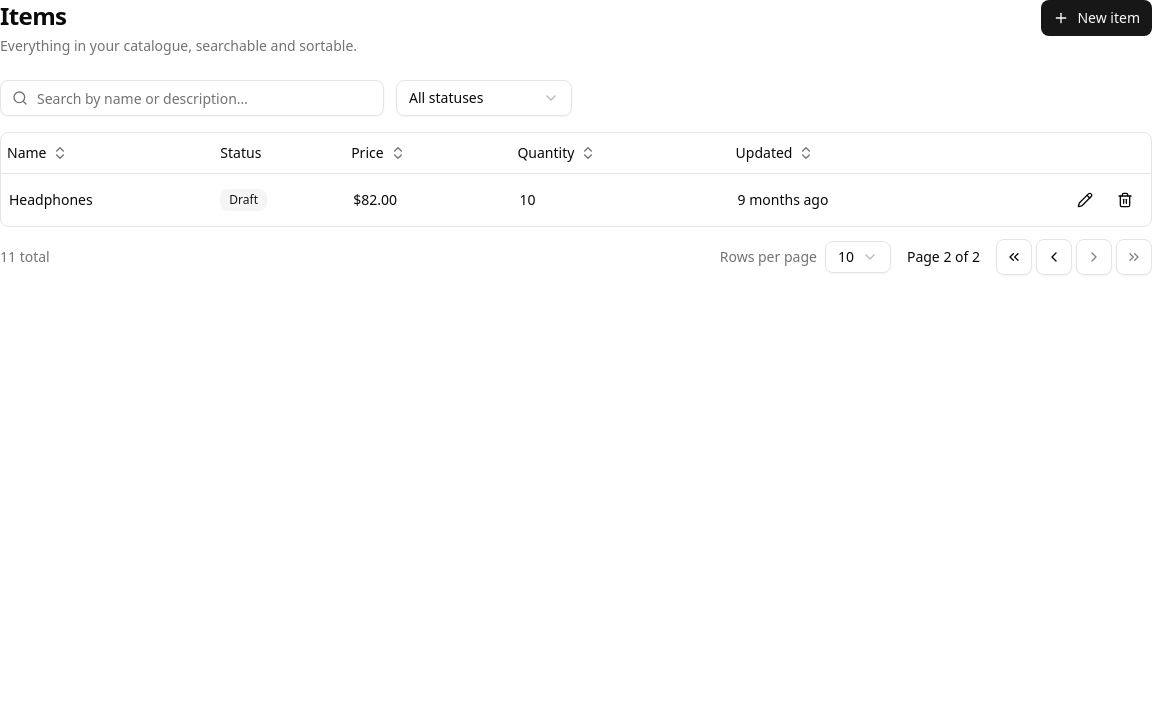
Scenario: ItemsListPage › goes back a page when the only row of the last page is deleted
This screenshot has width=1152, height=720.
Click the button named "Delete Headphones": point(1125, 200) [1107,182,1143,218]
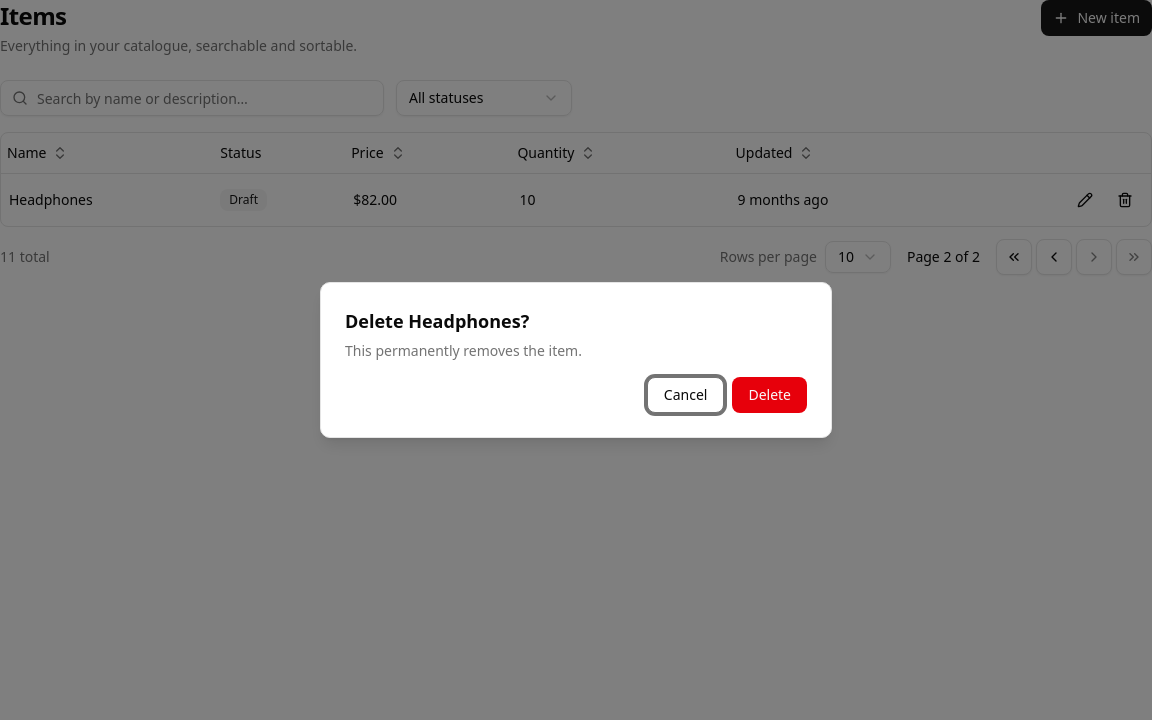
Click the button "Delete": point(770, 395) [732,377,807,413]
(page scrolled)
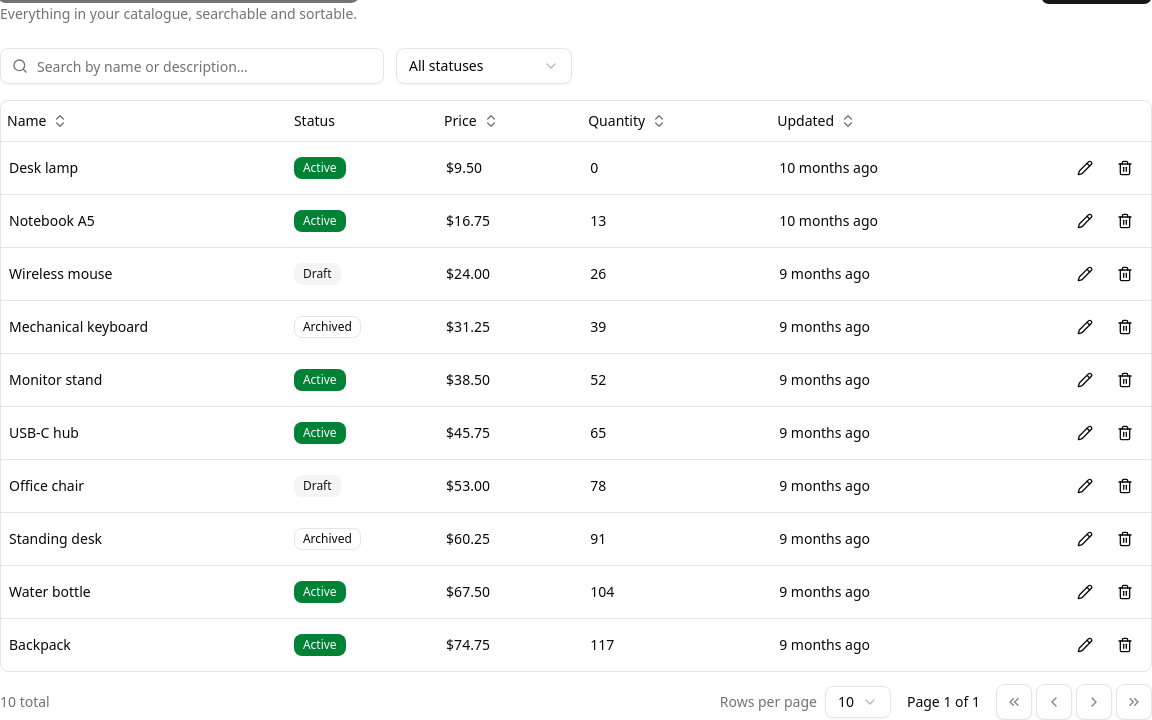
expect the text "Page 1 of 1" is shown: met, box [907,692,980,712]
